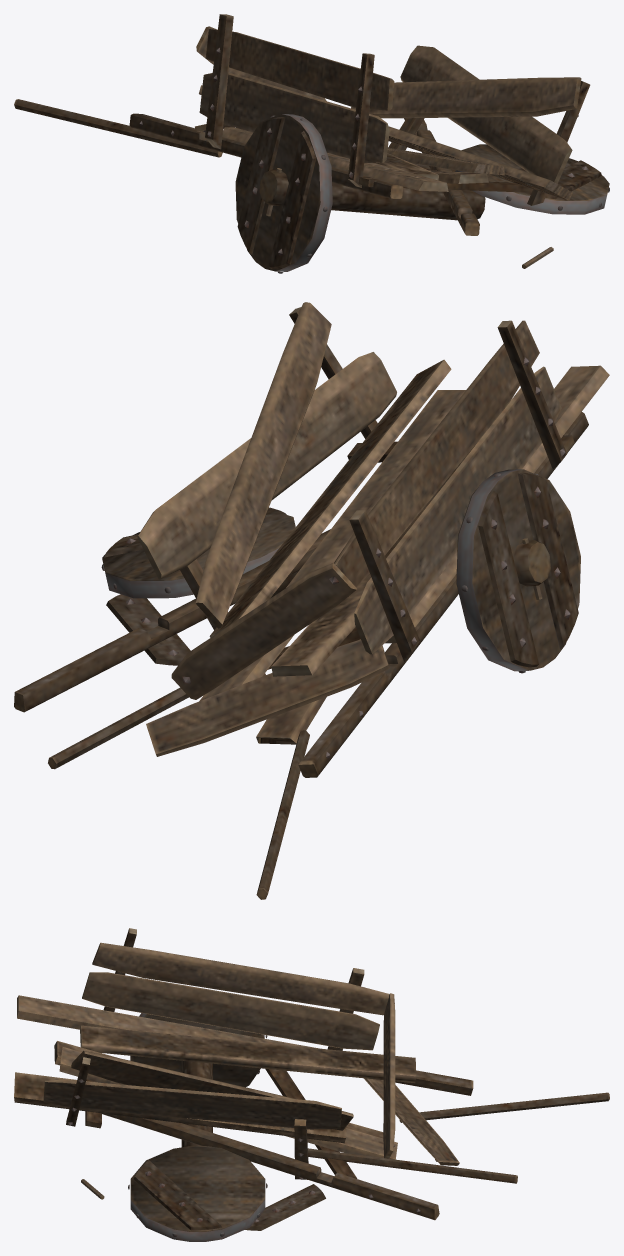
File: CAMP_handCart_broken.FBX
3 views of the same model, one above another, from view 1: azimuth 30°, elevation 25°; view 2: azimuth 150°, elevation 25°; view 3: azimuth 270°, elevation 25° (orthographic). The views are drawn at different scales.
Visible parts, largest first — view 1: CAMP_handCart_broken; view 2: CAMP_handCart_broken; view 3: CAMP_handCart_broken.
Part boxes in pixels (x1=…): CAMP_handCart_broken: x1=14, y1=14, x2=609, y2=273; CAMP_handCart_broken: x1=14, y1=302, x2=609, y2=899; CAMP_handCart_broken: x1=14, y1=928, x2=609, y2=1241.
Bounding box in the file's own units: 158 × 101 × 264.
1 material, 1 textured.
